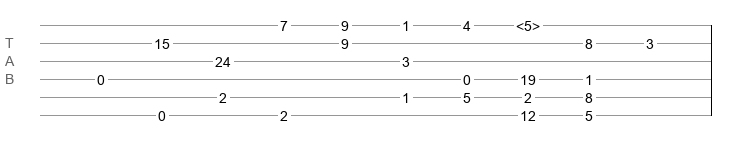0: (97, 72, 105, 82), (158, 108, 166, 118), (463, 72, 471, 82)
1: (402, 18, 410, 28), (402, 90, 410, 100), (585, 72, 593, 82)
12: (520, 108, 536, 118)
15: (154, 36, 170, 46)
19: (520, 72, 536, 82)
2: (219, 90, 227, 100), (280, 108, 288, 118), (524, 90, 532, 100)
24: (215, 54, 231, 64)
3: (402, 54, 410, 64), (646, 36, 654, 46)
4: (463, 18, 471, 28)
5: (463, 90, 471, 100), (585, 108, 593, 118)
7: (280, 18, 288, 28)
8: (585, 36, 593, 46), (585, 90, 593, 100)
9: (341, 36, 349, 46), (341, 18, 349, 28)
harmonic: (516, 18, 540, 28)
